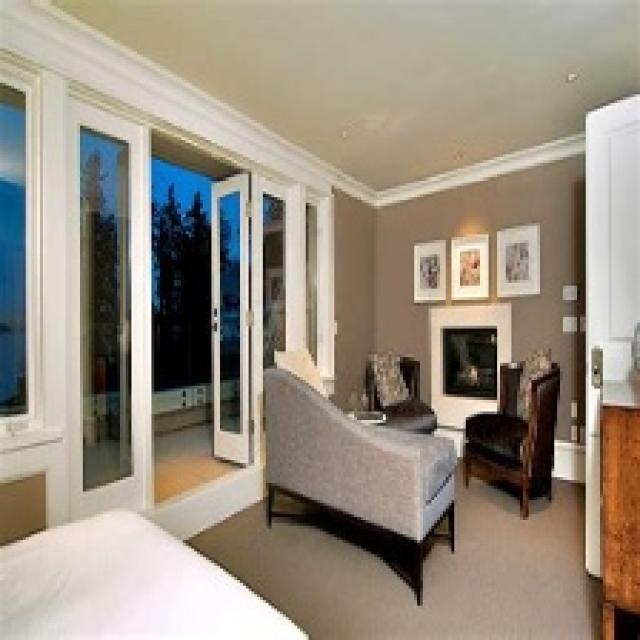Bed: (0, 505, 311, 637)
